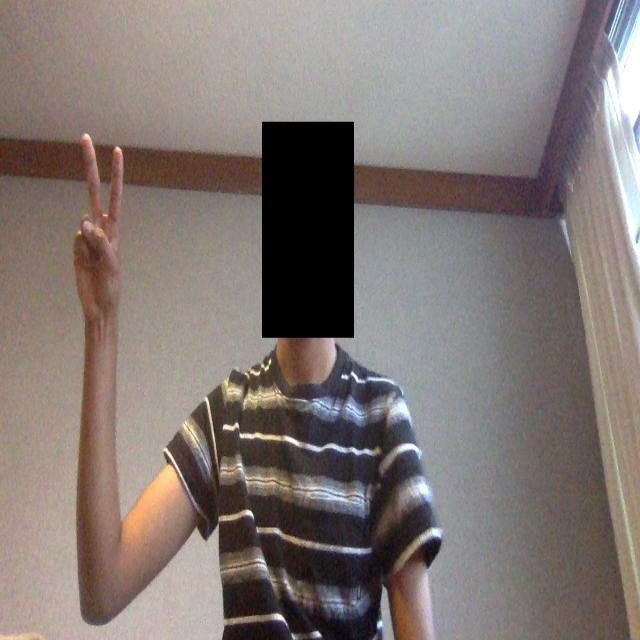V: (41, 100, 178, 410)
